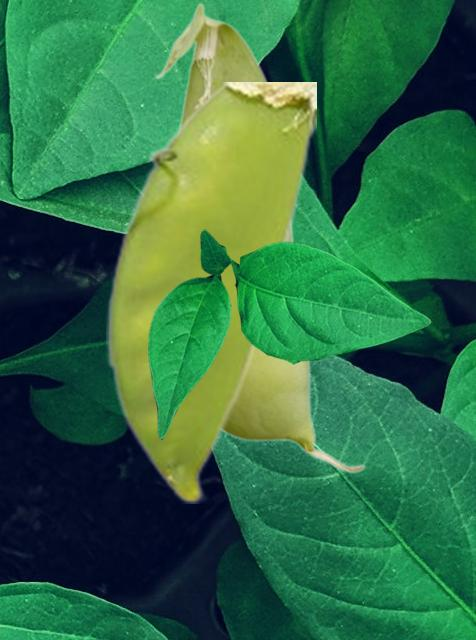pea: (154, 2, 366, 473), (106, 82, 315, 502)
